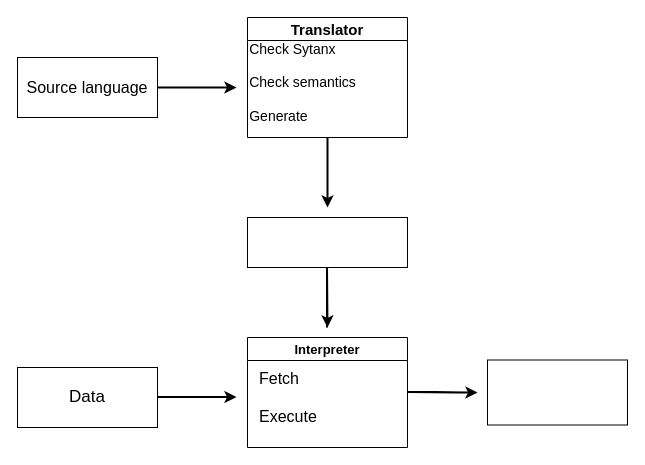
The diagram is 645 pixels wide and 465 high, and some of its shapes have lost their labels. The shapes that lost their labels are listed below. From the top down, each one's centre as x and y in pixels, then its label:
At point (327, 242): "Abstraction Instruction".
At point (557, 392): "Result".
